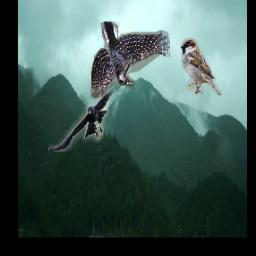Crow: (47, 61, 131, 153)
Sparrow: (181, 38, 222, 95)
Woodpecker: (91, 23, 170, 99)
